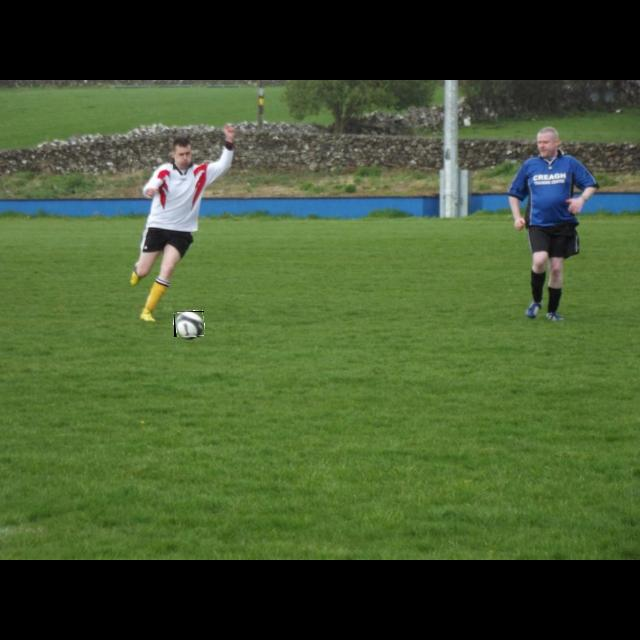Football: (174, 311, 204, 337)
